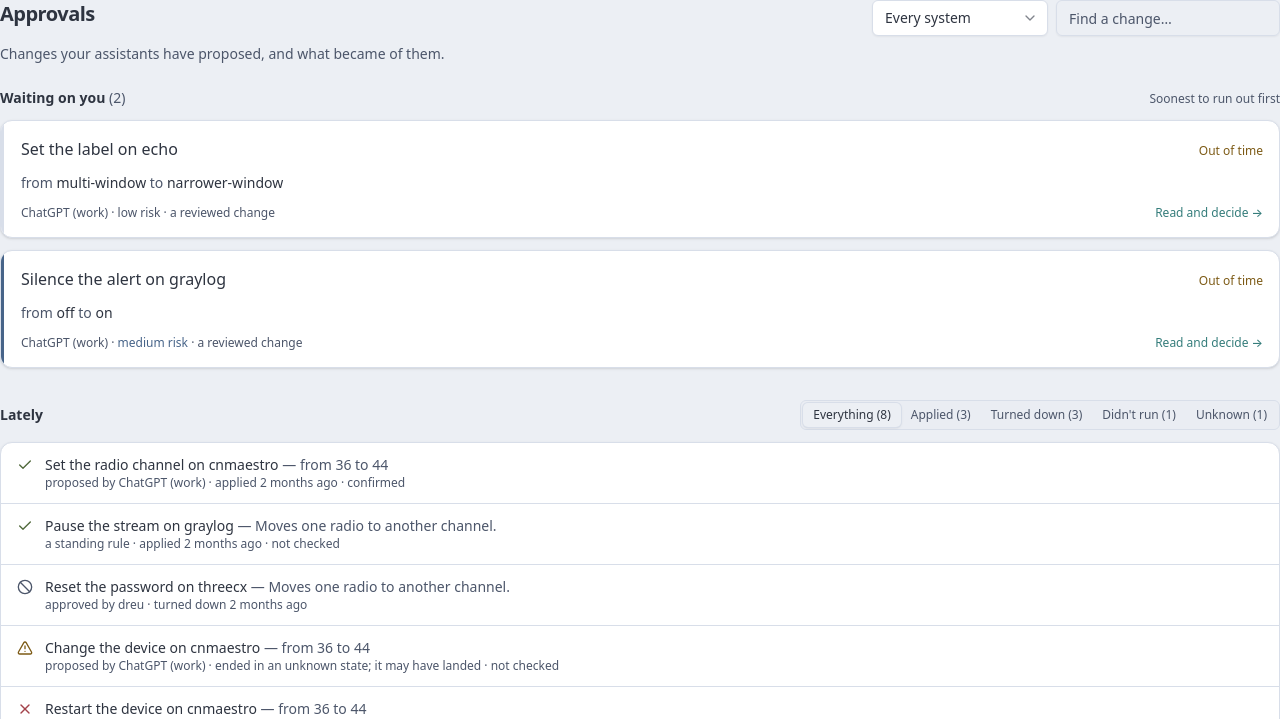
Test case: cutting the list › counts each outcome and narrows to it
Click the radio button labelled "Applied (3)". click: (941, 415)
box: x1=901 y1=403 x2=981 y2=427
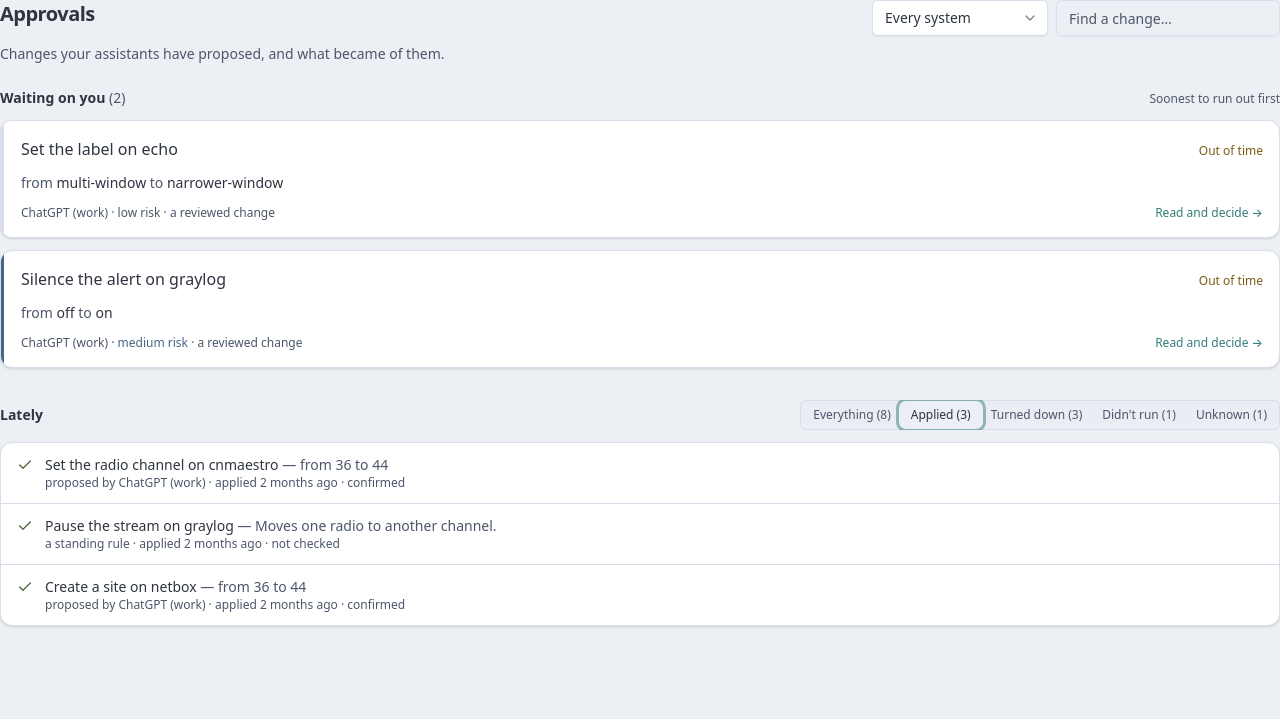
Result: the number of list items is 3 at x1=1 y1=443 x2=1279 y2=504; x1=1 y1=504 x2=1279 y2=565; x1=17 y1=577 x2=405 y2=613
